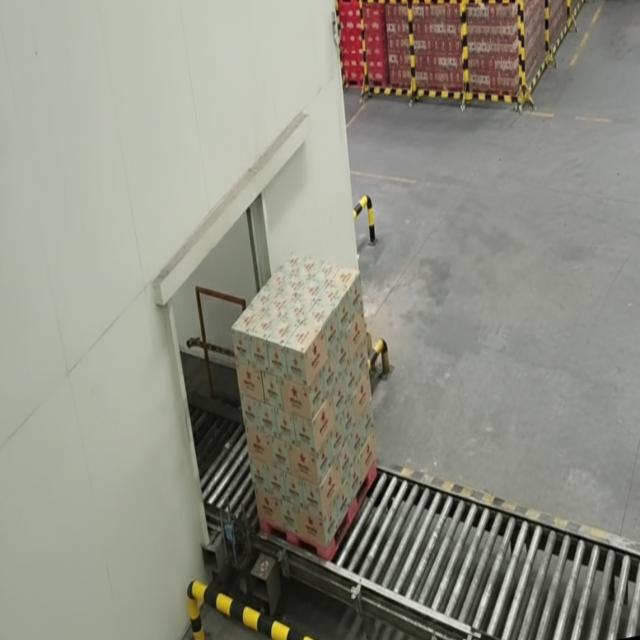pallet: (232, 250, 389, 590)
